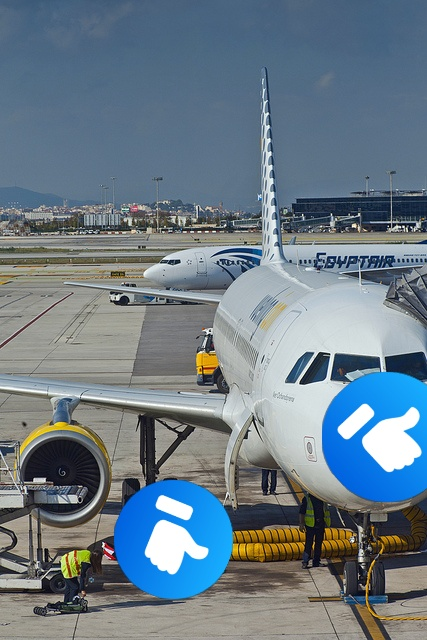like: (114, 480, 233, 599), (322, 372, 427, 502)
